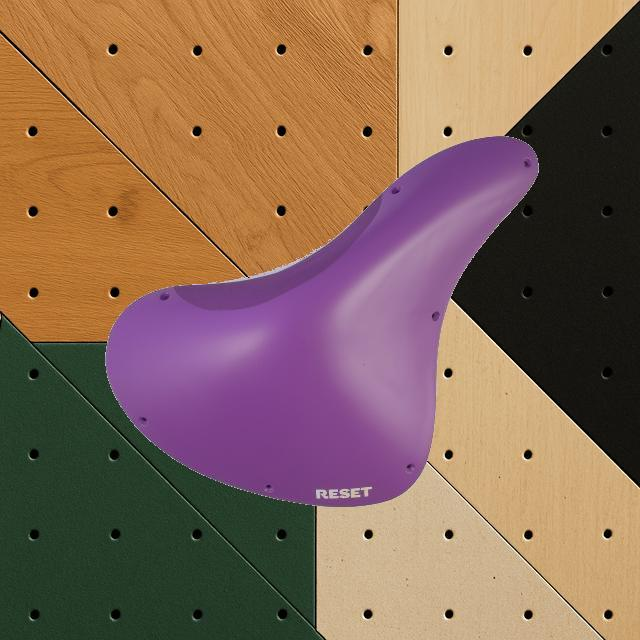Sloper: (103, 138, 559, 506)
